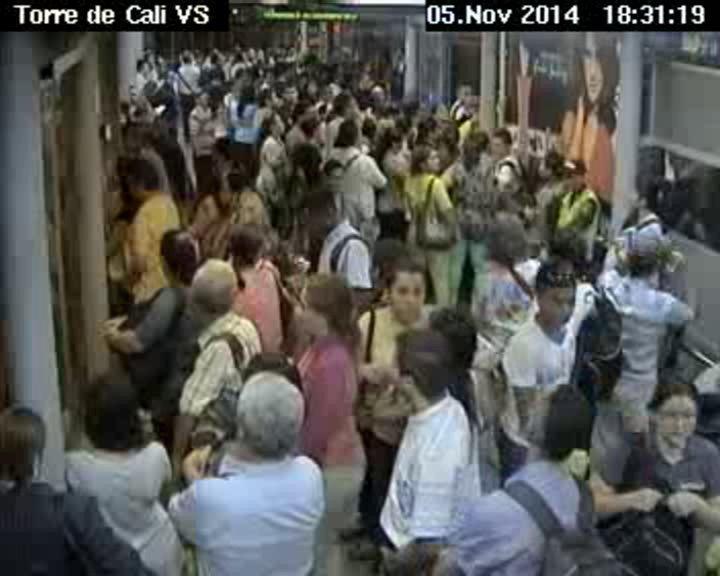person: (225, 366, 312, 460), (381, 326, 459, 410), (501, 401, 582, 474), (71, 367, 146, 444), (285, 274, 362, 347), (642, 375, 702, 454), (1, 408, 59, 489), (182, 256, 247, 325), (532, 255, 579, 332), (382, 254, 430, 325), (294, 181, 346, 241), (155, 223, 203, 283), (224, 217, 274, 273), (619, 229, 672, 280), (485, 207, 529, 264), (627, 167, 673, 218), (122, 155, 161, 206), (211, 165, 257, 206), (205, 136, 248, 174), (410, 144, 444, 175), (377, 122, 404, 156), (490, 124, 515, 160), (461, 125, 490, 156), (338, 118, 367, 148), (562, 156, 586, 192), (301, 114, 327, 146), (333, 89, 360, 118), (261, 109, 287, 139), (282, 79, 301, 108), (259, 85, 281, 110), (368, 84, 391, 106), (193, 89, 217, 109), (456, 78, 475, 103), (237, 79, 257, 101)
